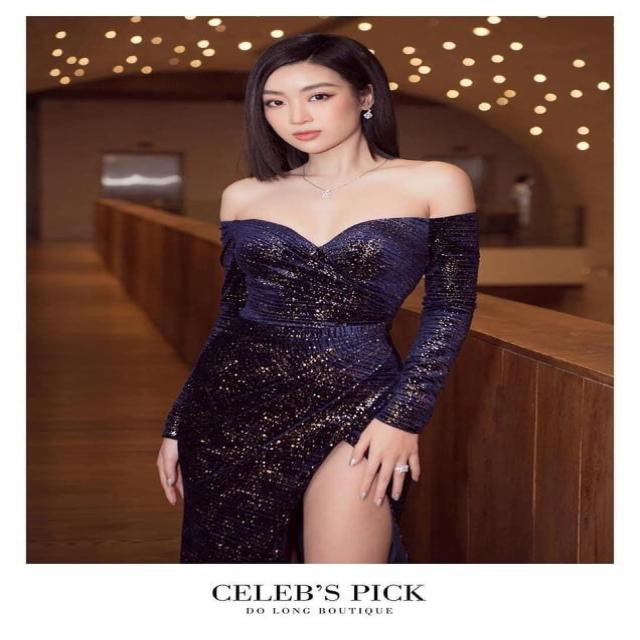clothes: (172, 182, 484, 577)
